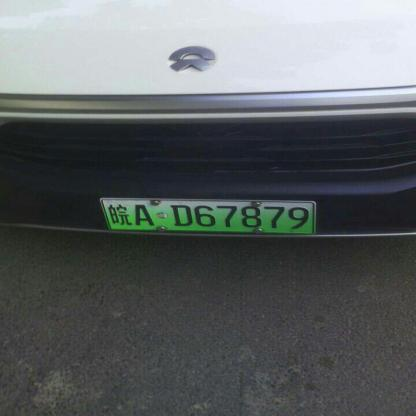lp: (100, 197, 314, 233)
